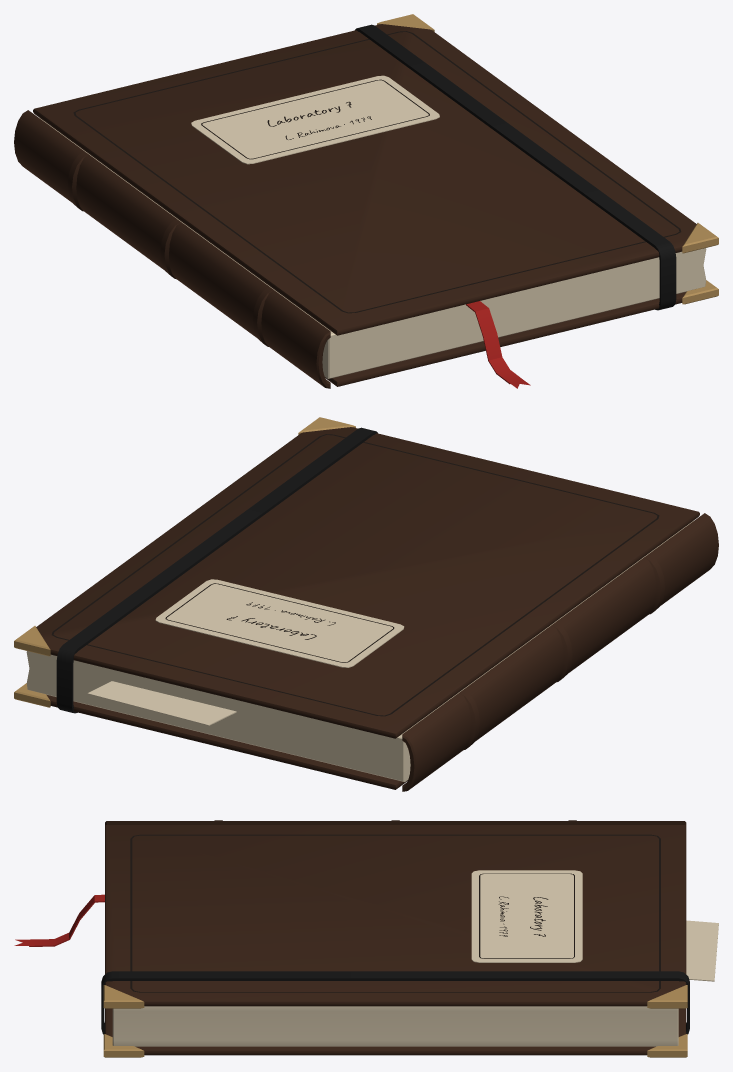
File: notebook.glb
The picture shows the model from 3 angles, top to bottom: view 1: azimuth 30°, elevation 25°; view 2: azimuth 150°, elevation 25°; view 3: azimuth 270°, elevation 25°; orthographic projection. The views are drawn at different scales.
Parts seen in each view (by area): view 1: notebook; view 2: notebook; view 3: notebook.
Boxes of the visible parts, x1,y1,x2,y2 form: notebook: [14, 14, 718, 388]; notebook: [14, 417, 718, 791]; notebook: [14, 820, 718, 1057].
Size of the model in its own units: 0.1764 by 0.0268 by 0.2789.
